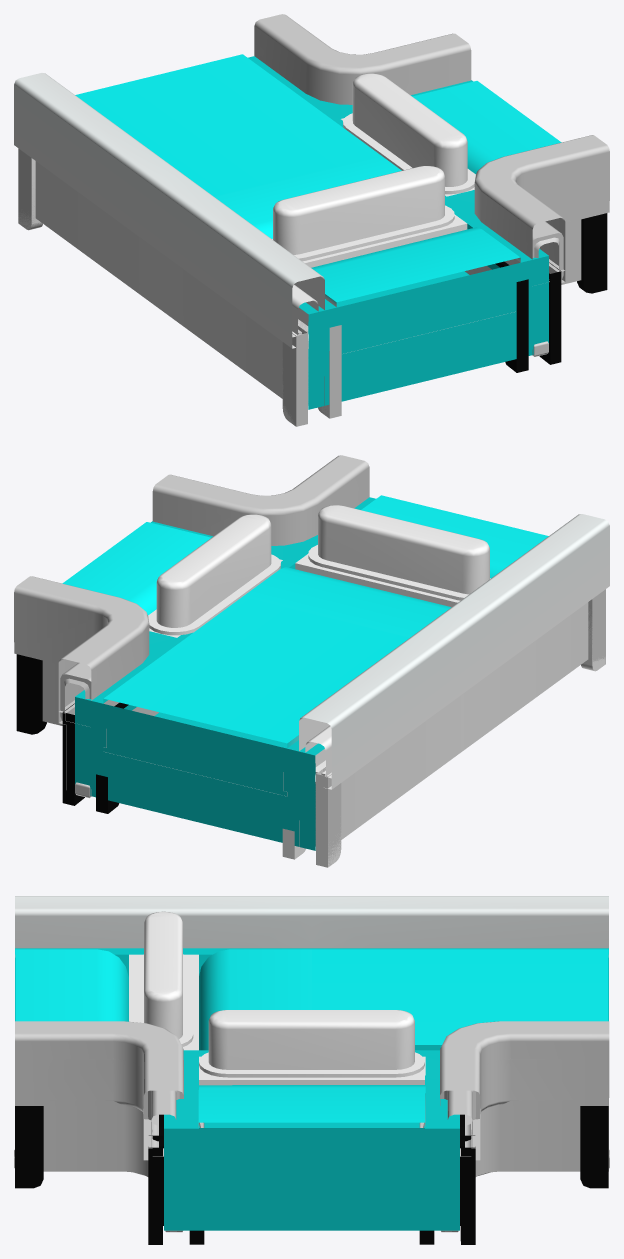
Rendered from Merger2To1RInternalVariant.gltf.
The picture shows the model from 3 angles, top to bottom: view 1: azimuth 30°, elevation 25°; view 2: azimuth 150°, elevation 25°; view 3: azimuth 270°, elevation 25°; orthographic projection. The views are drawn at different scales.
Visible parts, largest first — view 1: Merger_2to1Right_Belt_LOD0, Merger_TBorder_Layer0_LOD0.001, Merger_DefaultBorder_Layer0_LOD0.001, Merger_DefaultBorder_Layer1_LOD0.001, Merger_Default_Stopper_LOD0, Merger_Default_Stopper_LOD0.001, Merger_DefaultBorder_Layer2_LOD0.001, Merger_TBorder_Layer1_LOD0.001, Merger_TBorder_Layer2_LOD0.001; view 2: Merger_2to1Right_Belt_LOD0, Merger_TBorder_Layer0_LOD0.001, Merger_DefaultBorder_Layer0_LOD0.001, Merger_DefaultBorder_Layer1_LOD0.001, Merger_Default_Stopper_LOD0, Merger_Default_Stopper_LOD0.001, Merger_TBorder_Layer1_LOD0.001, Merger_DefaultBorder_Layer2_LOD0.001, Merger_TBorder_Layer2_LOD0.001; view 3: Merger_2to1Right_Belt_LOD0, Merger_DefaultBorder_Layer1_LOD0.001, Merger_DefaultBorder_Layer0_LOD0.001, Merger_TBorder_Layer0_LOD0.001, Merger_Default_Stopper_LOD0.001, Merger_DefaultBorder_Layer2_LOD0.001, Merger_Default_Stopper_LOD0.
Part boxes in pixels (box(x1,y1,x2,y2)): Merger_2to1Right_Belt_LOD0: box(75, 54, 561, 306); Merger_TBorder_Layer0_LOD0.001: box(14, 73, 324, 405); Merger_DefaultBorder_Layer0_LOD0.001: box(248, 14, 609, 409); Merger_DefaultBorder_Layer1_LOD0.001: box(18, 20, 609, 426); Merger_Default_Stopper_LOD0: box(273, 166, 444, 254); Merger_Default_Stopper_LOD0.001: box(352, 73, 467, 186); Merger_DefaultBorder_Layer2_LOD0.001: box(249, 44, 563, 353); Merger_TBorder_Layer1_LOD0.001: box(18, 158, 329, 425); Merger_TBorder_Layer2_LOD0.001: box(292, 284, 318, 337); Merger_2to1Right_Belt_LOD0: box(62, 495, 548, 747); Merger_TBorder_Layer0_LOD0.001: box(299, 514, 609, 846); Merger_DefaultBorder_Layer0_LOD0.001: box(14, 455, 375, 850); Merger_DefaultBorder_Layer1_LOD0.001: box(14, 461, 605, 865); Merger_Default_Stopper_LOD0: box(318, 505, 489, 594); Merger_Default_Stopper_LOD0.001: box(156, 514, 271, 627); Merger_TBorder_Layer1_LOD0.001: box(282, 608, 605, 867); Merger_DefaultBorder_Layer2_LOD0.001: box(60, 485, 375, 796); Merger_TBorder_Layer2_LOD0.001: box(305, 725, 331, 779); Merger_2to1Right_Belt_LOD0: box(15, 949, 608, 1127); Merger_DefaultBorder_Layer1_LOD0.001: box(14, 948, 609, 1244); Merger_DefaultBorder_Layer0_LOD0.001: box(15, 948, 608, 1176); Merger_TBorder_Layer0_LOD0.001: box(15, 896, 608, 957); Merger_Default_Stopper_LOD0.001: box(208, 1010, 414, 1069); Merger_DefaultBorder_Layer2_LOD0.001: box(15, 948, 608, 1153); Merger_Default_Stopper_LOD0: box(144, 911, 182, 1038).
Bounding box in the file's own units: 0.7874 × 0.3093 × 1.
